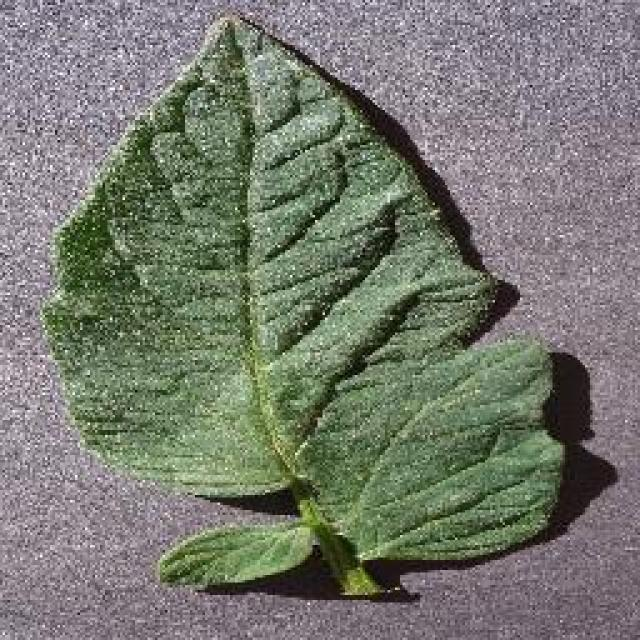Tomato_Healthy: (30, 17, 599, 593)
